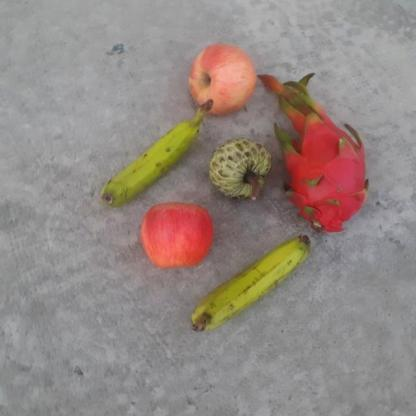annona: (209, 137, 273, 204)
apple: (187, 42, 259, 118), (138, 202, 216, 272)
banana: (99, 98, 217, 205), (190, 232, 310, 330)
pitaya: (282, 106, 374, 235)
